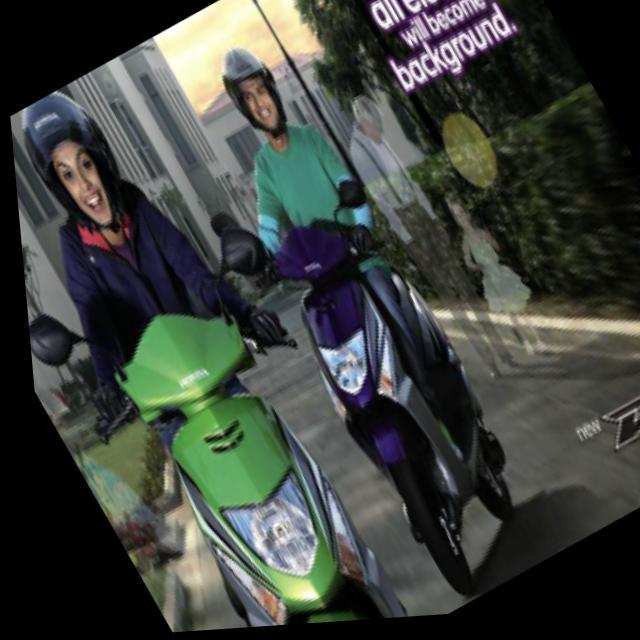Helmet: (12, 83, 146, 246), (212, 39, 296, 149)
